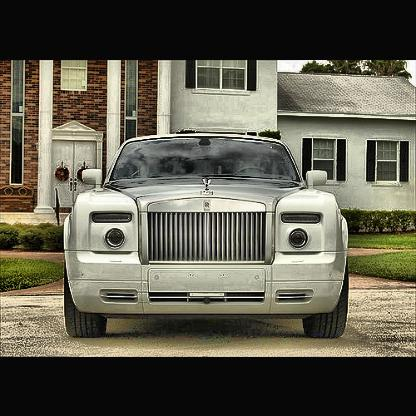Rolls-Royce Phantom Drophead Coupe Convertible 2012: (63, 134, 352, 343)
